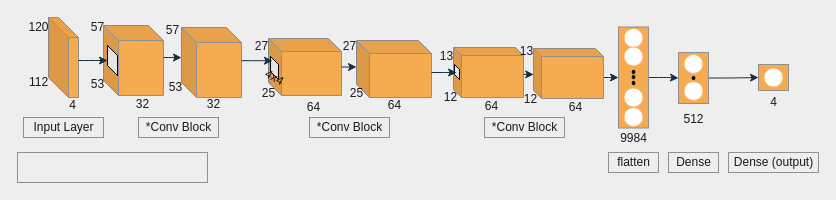
The diagram is 836 pixels wide and 200 high, and some of its shapes have lost their labels. Each missing label, with the centre of its shape:
*A Conv Block is a Conv2D then BatchNorm Layer: pixel 112 167
3x3: pixel 488 72
8x8: pixel 133 60
